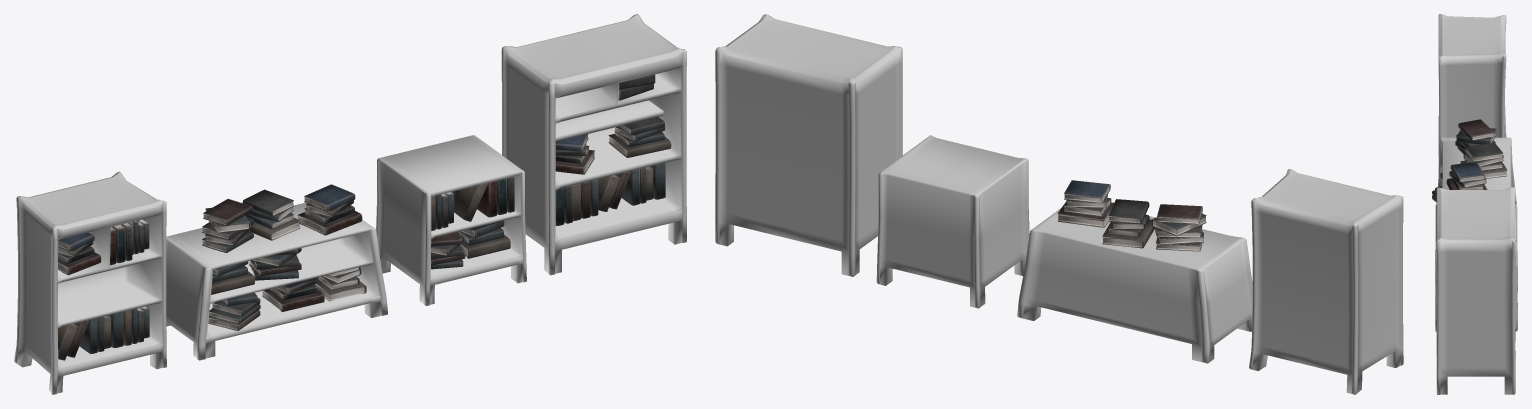
The model's file is Bookshelves_1A1.fbx.
The picture shows the model from 3 angles, left to right: view 1: azimuth 30°, elevation 25°; view 2: azimuth 150°, elevation 25°; view 3: azimuth 270°, elevation 25°; orthographic projection. The views are drawn at different scales.
Parts seen in each view (by area): view 1: Bookshelf_1A4, Bookshelf_1A1, Bookshelf_1A2, Bookshelf_1A3, Bookshelf_Books_1A2, Bookshelf_Books_1A4, Bookshelf_Books_1A1, Bookshelf_Books_1A3; view 2: Bookshelf_1A4, Bookshelf_1A1, Bookshelf_1A2, Bookshelf_1A3, Bookshelf_Books_1A2; view 3: Bookshelf_1A4, Bookshelf_1A1, Bookshelf_Books_1A2, Bookshelf_1A2, Bookshelf_1A3.
Boxes of the visible parts, x1,y1,x2,y2 form: Bookshelf_1A4: (501,14,686,275); Bookshelf_1A1: (14,171,166,394); Bookshelf_1A2: (166,202,387,360); Bookshelf_1A3: (376,135,526,305); Bookshelf_Books_1A2: (202,184,366,330); Bookshelf_Books_1A4: (555,74,671,225); Bookshelf_Books_1A1: (58,219,149,360); Bookshelf_Books_1A3: (431,176,514,269); Bookshelf_1A4: (715,14,902,276); Bookshelf_1A1: (1249,169,1403,394); Bookshelf_1A2: (1017,208,1252,363); Bookshelf_1A3: (876,135,1029,308); Bookshelf_Books_1A2: (1057,180,1206,251); Bookshelf_1A4: (1436,187,1515,394); Bookshelf_1A1: (1438,14,1506,174); Bookshelf_Books_1A2: (1432,119,1506,202); Bookshelf_1A2: (1438,137,1516,204); Bookshelf_1A3: (1435,204,1517,331).
Size of the model in its own units: 695 by 204 by 102.
